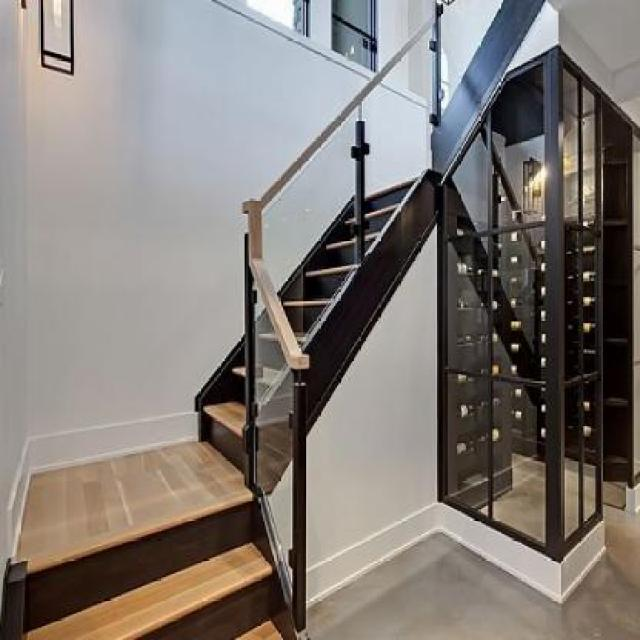stair: (188, 101, 448, 499), (0, 480, 343, 638)
